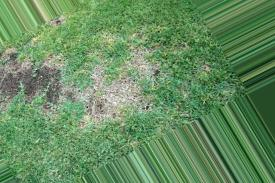patch: (86, 64, 150, 113), (17, 60, 74, 106), (1, 59, 20, 107)
